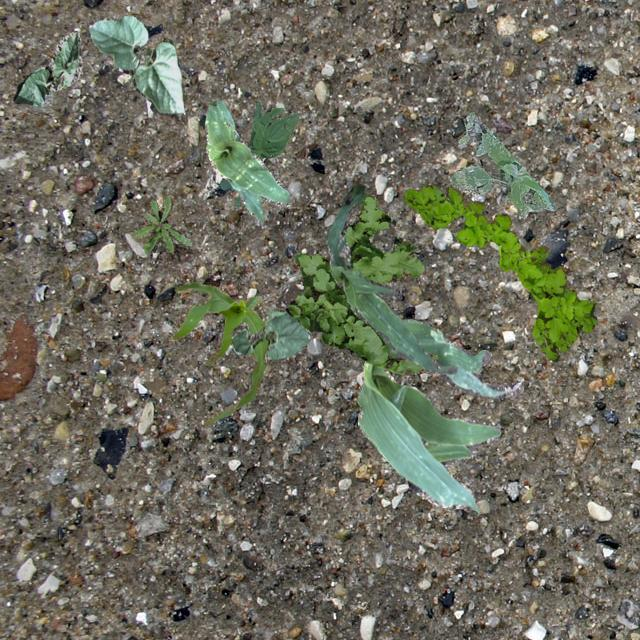crop: (356, 318, 522, 512), (326, 182, 456, 372), (168, 280, 268, 424), (204, 98, 292, 226), (86, 15, 184, 116), (218, 100, 298, 208), (12, 30, 82, 104), (230, 311, 310, 358)
weed: (402, 184, 596, 360), (278, 193, 436, 374), (448, 110, 556, 217), (134, 195, 192, 252)
